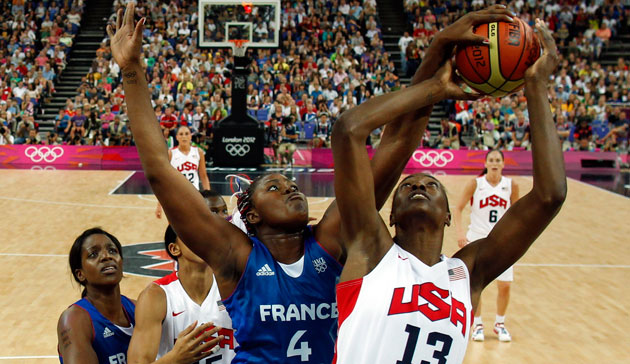block: (87, 2, 539, 364)
shoot: (332, 12, 575, 364)
